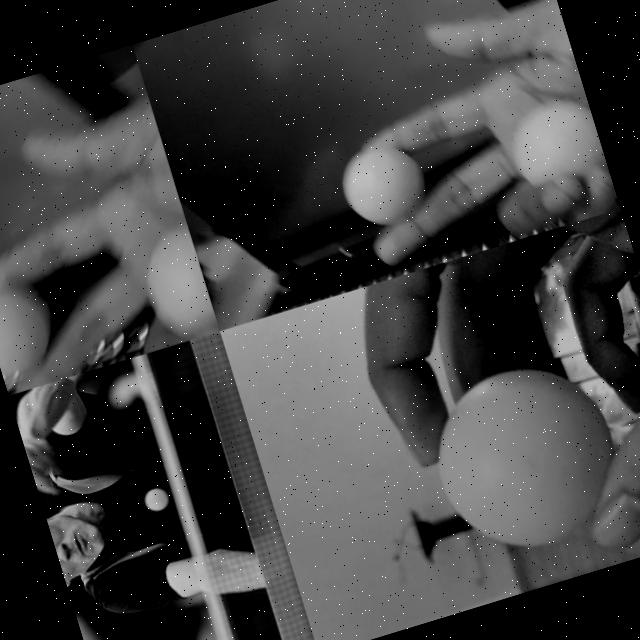ping-pong-ball: (415, 344, 636, 566), (500, 88, 610, 204), (128, 218, 218, 344), (336, 138, 428, 230), (0, 275, 63, 382), (140, 484, 170, 512)
